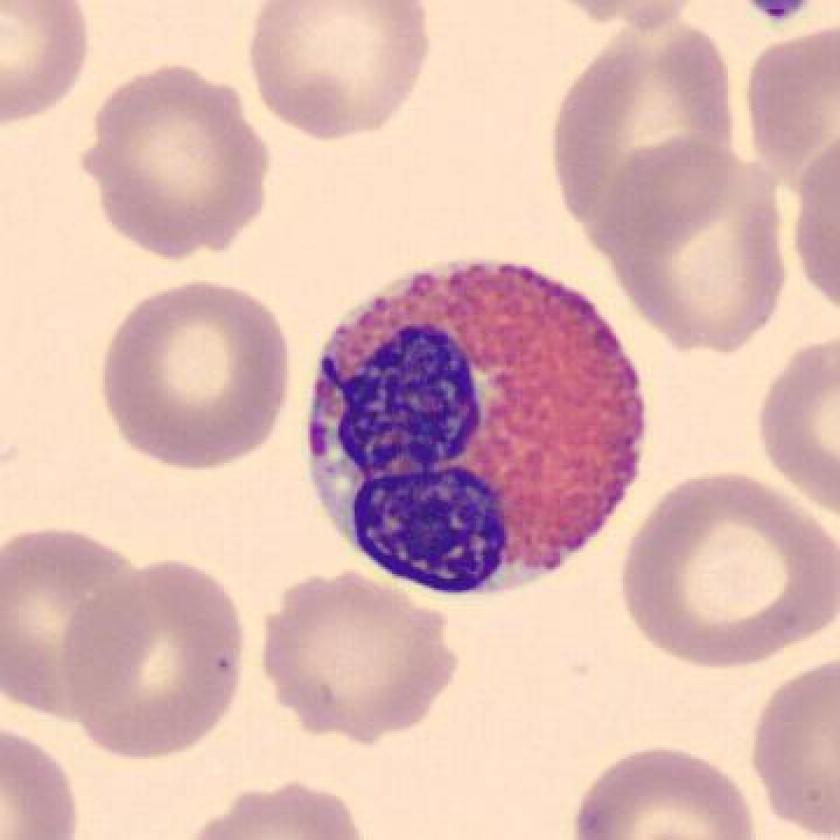eosinophil: (290, 244, 664, 610)
